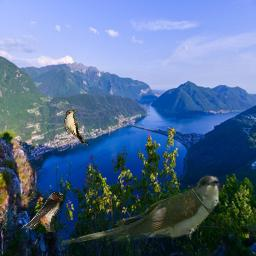Cuckoo: (60, 174, 219, 247), (64, 110, 89, 147)
Swallow: (21, 192, 64, 232)
